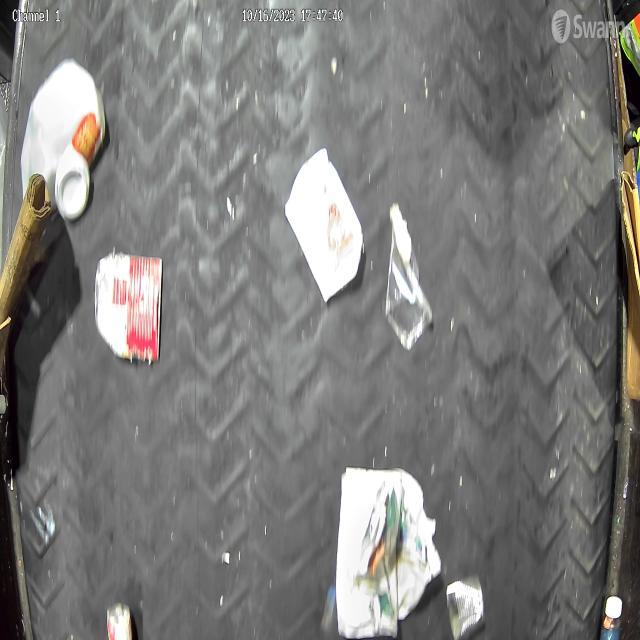can: (92, 249, 164, 369), (446, 575, 485, 632)
milk_jug: (22, 56, 106, 180)
